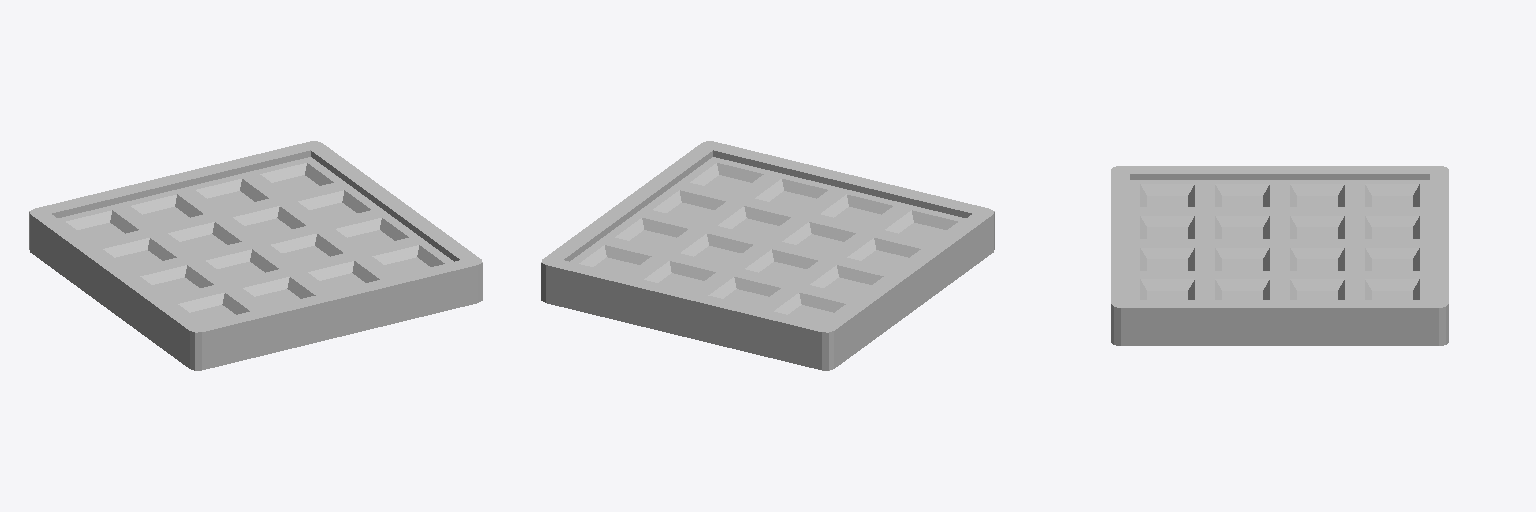
Rendered from waffle.obj.
3 renders of one model, left to right at view 1: azimuth 30°, elevation 25°; view 2: azimuth 150°, elevation 25°; view 3: azimuth 270°, elevation 25°, orthographic.
Visible parts, largest first — view 1: waffle; view 2: waffle; view 3: waffle.
Boxes of the visible parts, x1,y1,x2,y2 form: waffle: [29, 141, 482, 370]; waffle: [541, 141, 994, 370]; waffle: [1111, 166, 1448, 345].
Bounding box in the file's own units: 0.3204 × 0.04 × 0.3204.